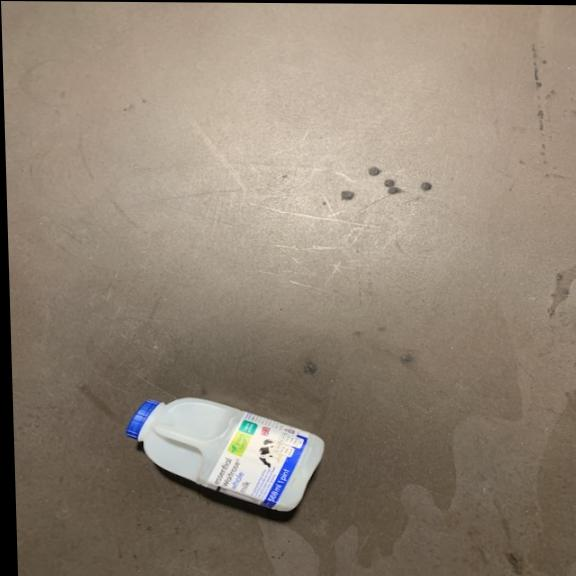Plastik: (121, 392, 328, 513)
